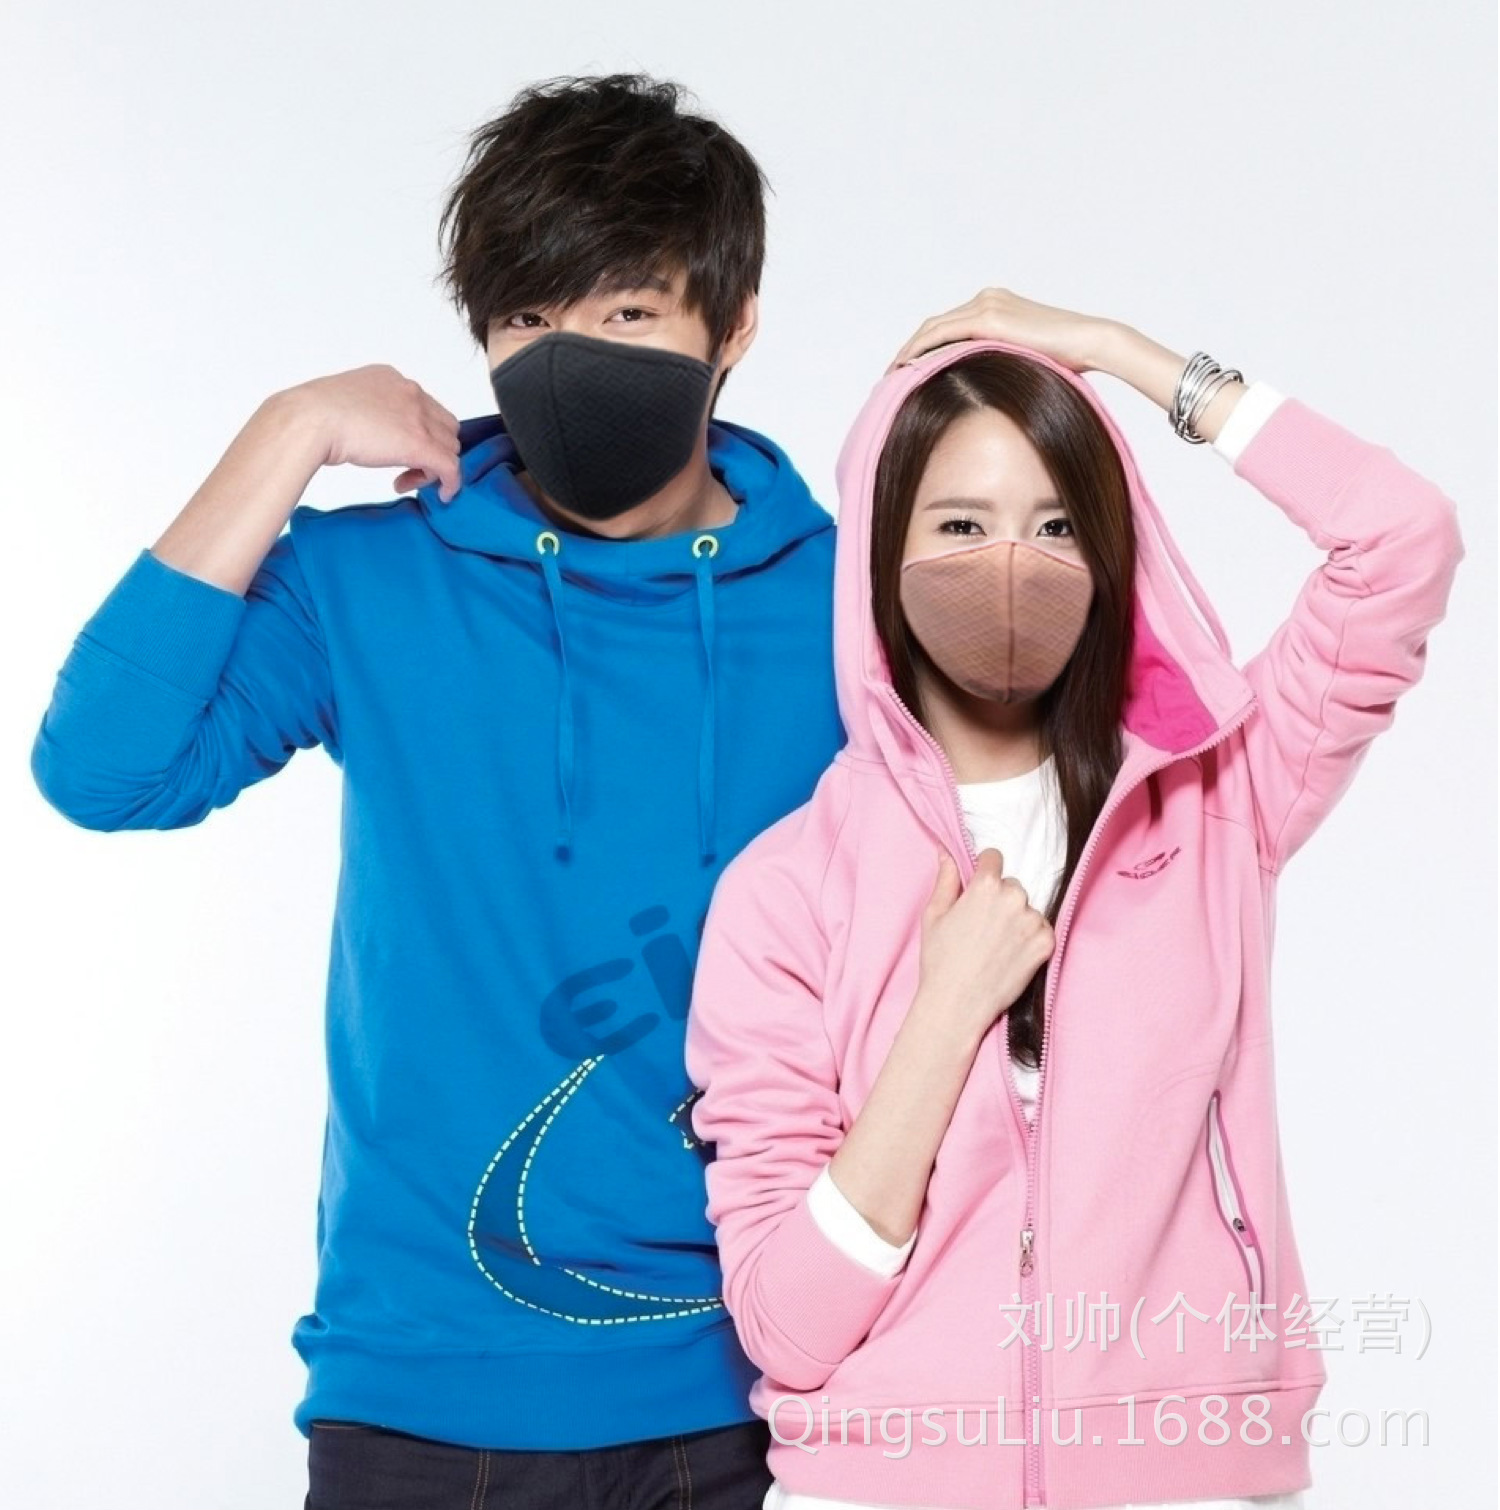face_mask: (482, 243, 691, 521), (899, 411, 1089, 697)
